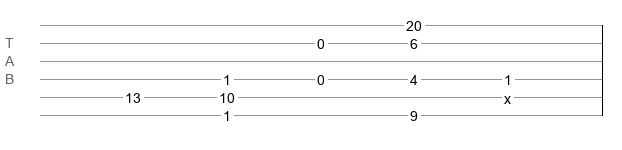0: (317, 36, 325, 46), (317, 72, 325, 82)
1: (223, 72, 231, 82), (223, 108, 231, 118), (504, 72, 512, 82)
10: (219, 90, 235, 100)
13: (125, 90, 141, 100)
20: (406, 18, 422, 28)
4: (410, 72, 418, 82)
6: (410, 36, 418, 46)
9: (410, 108, 418, 118)
x: (504, 91, 511, 99)
